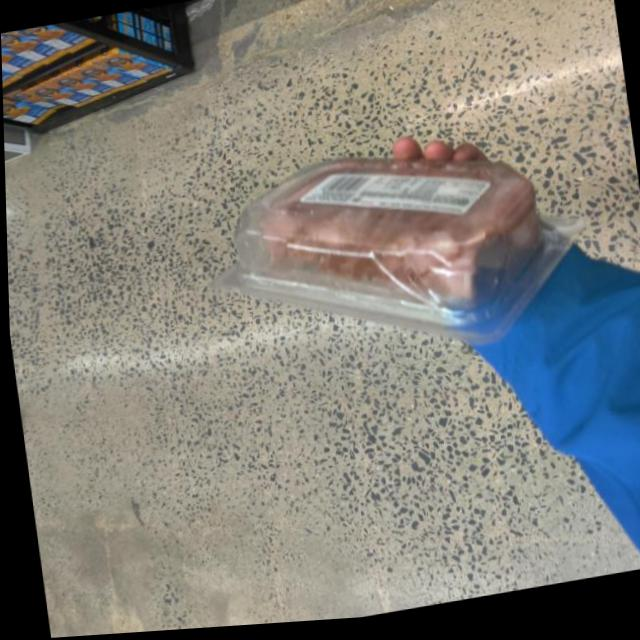Meat: (240, 118, 577, 406)
